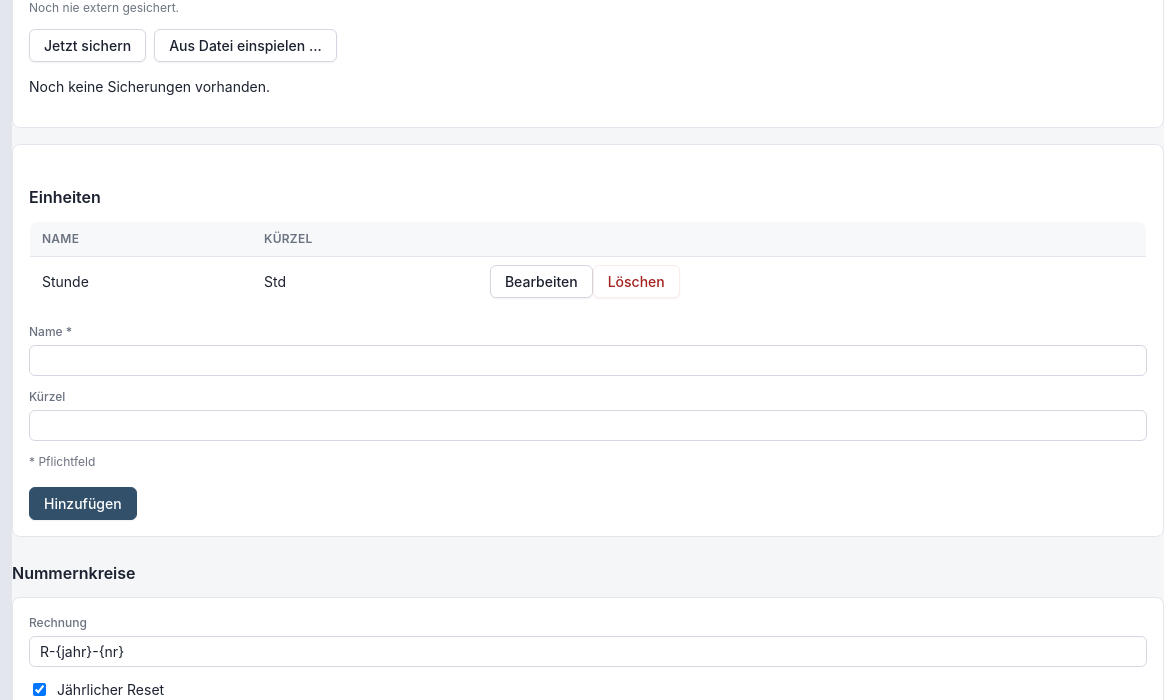
Scenario: Einstellungen › zeigt nach dem Anlegen einer neuen Einheit einen Erfolgs-Hinweis
The width and height of the screenshot is (1164, 700).
(page scrolled)
Check: the text "Std" is shown, box x1=252 y1=256 x2=478 y2=306
In the field labelled "Name *": (588, 360) x1=29 y1=345 x2=1147 y2=376, type "Pauschale"
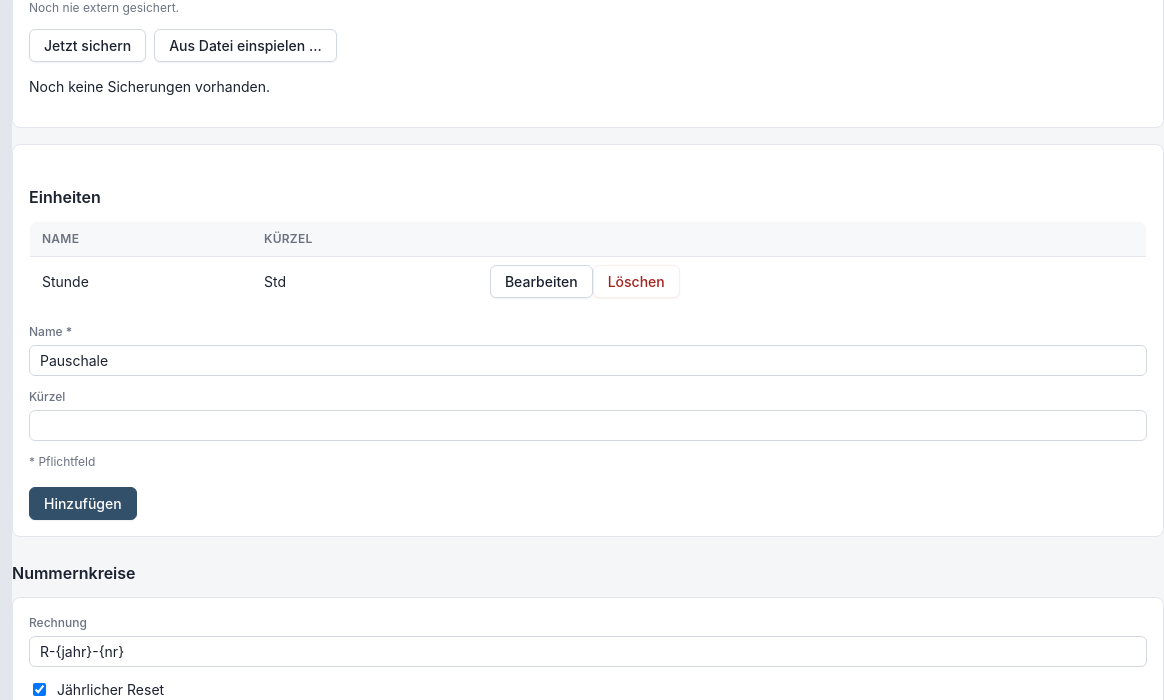
In the field labelled "Kürzel": (588, 426) x1=29 y1=410 x2=1147 y2=441, type "Pausch"
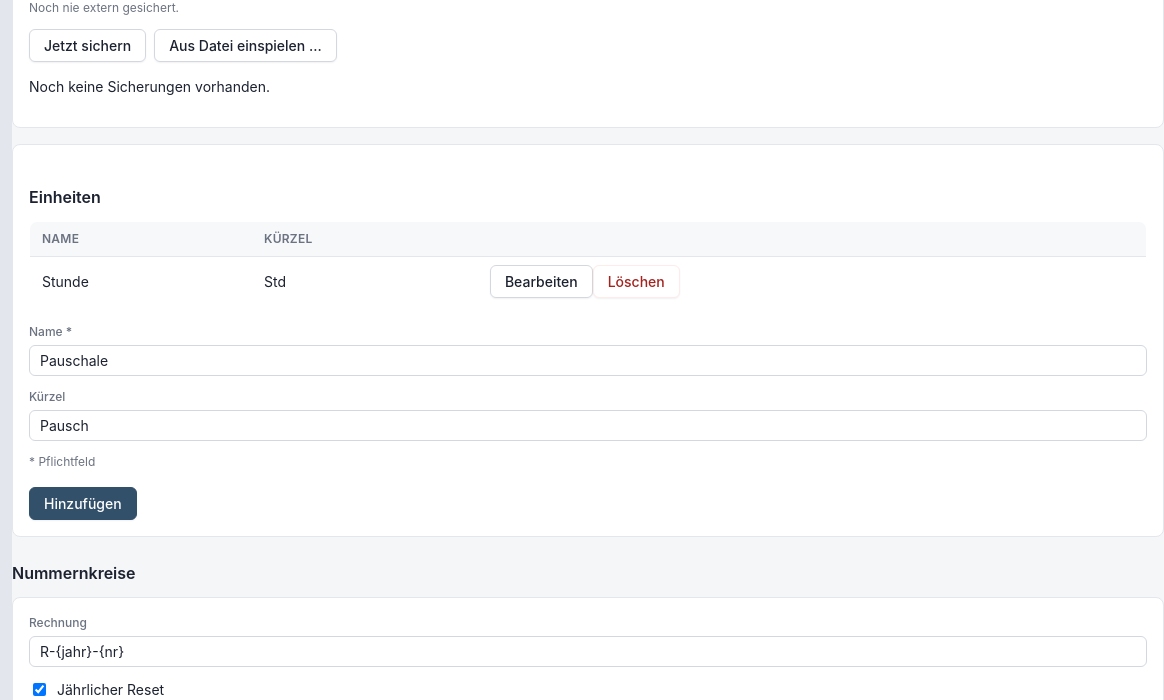
Click the button "Hinzufügen": (83, 504) x1=29 y1=487 x2=137 y2=520
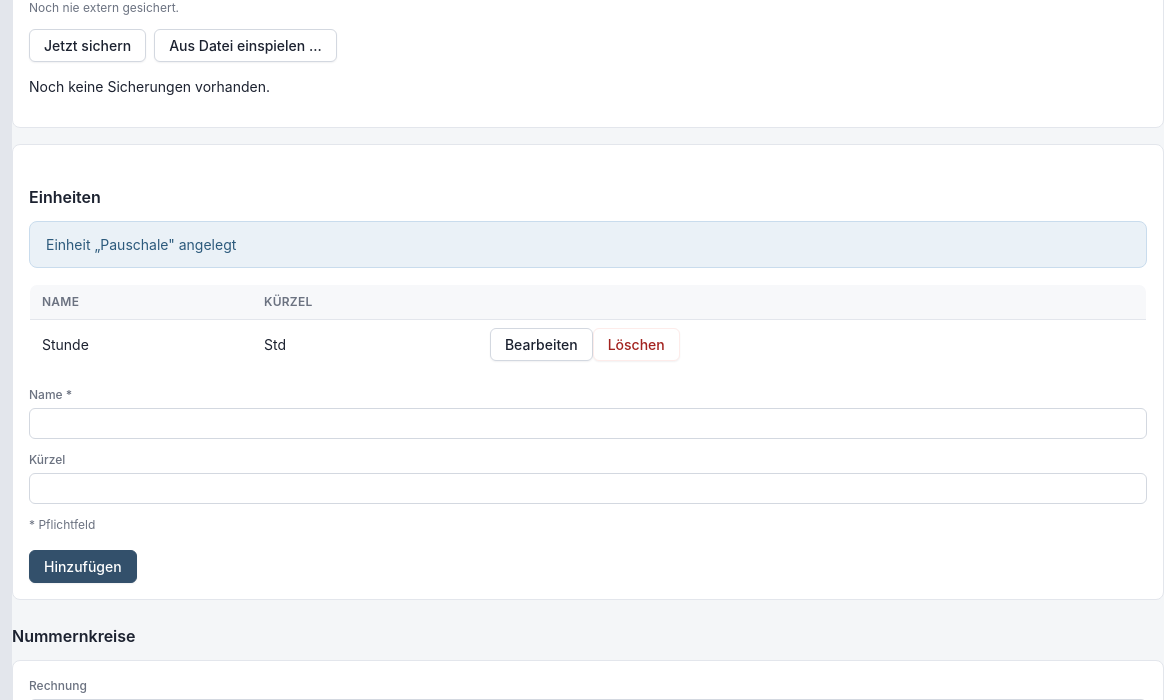
Check: the text "Einheit „Pauschale\" angelegt" is shown, box x1=46 y1=234 x2=236 y2=255
